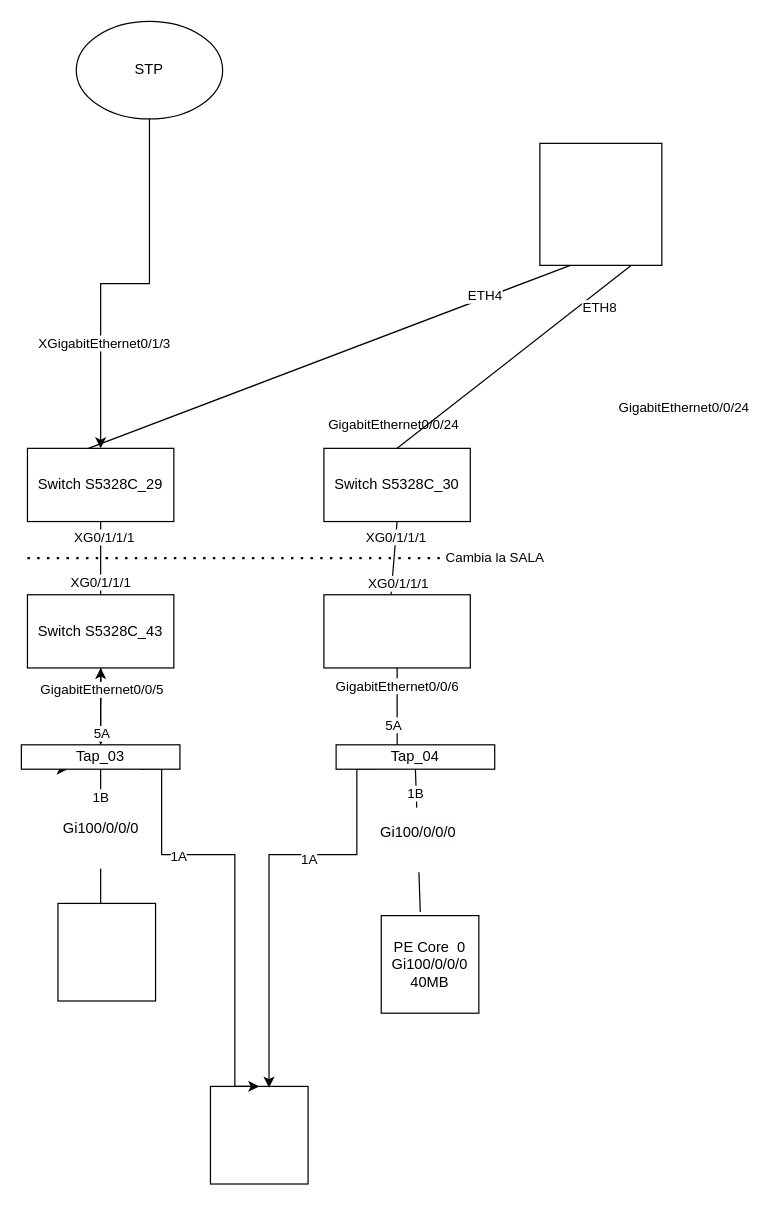
Some shapes in this 771 by 1205 pixel diagram are drawn without their labels. Here are the shapes that lost their labels. From the top down, the box of each, then its label:
(539, 142, 662, 265): CS Probe CDLV
(323, 594, 470, 668): Switch S5328C_44
(57, 902, 156, 1001): PE Core 1 Gi100/0/0/0 20MB
(209, 1085, 308, 1184): SAMBC01
